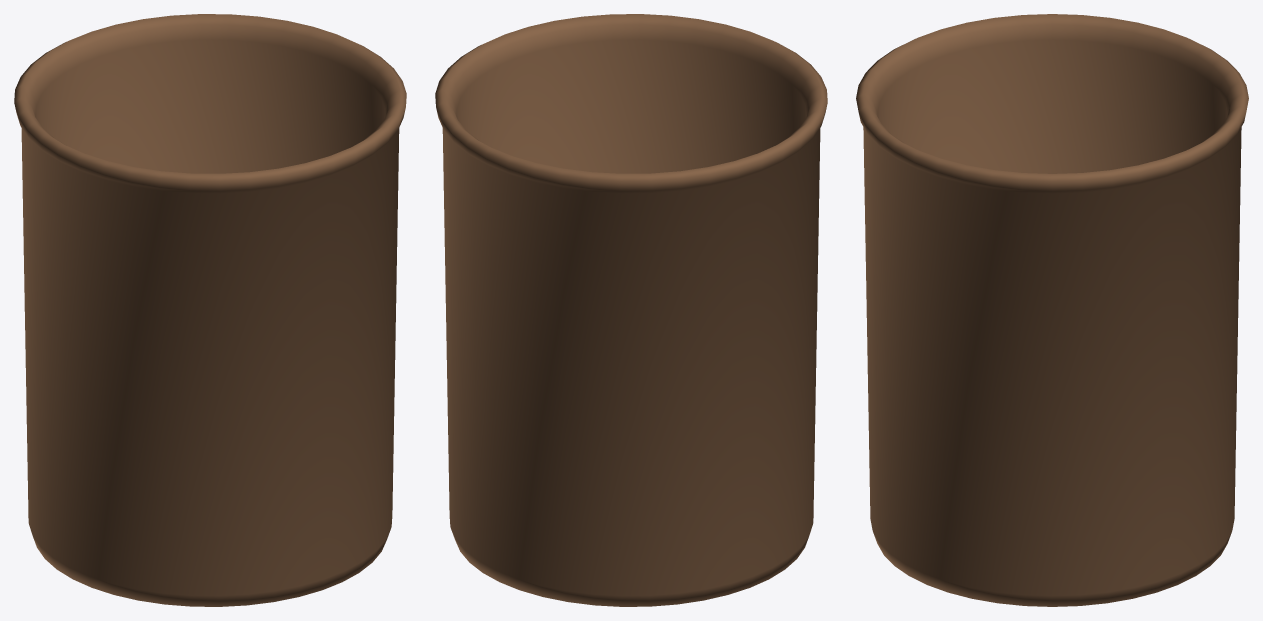
The model's file is proc_dice_cup_83x102mm.glb.
3 views of the same model, side by side, from view 1: azimuth 30°, elevation 25°; view 2: azimuth 150°, elevation 25°; view 3: azimuth 270°, elevation 25° (orthographic).
Parts seen in each view (by area): view 1: dice_cup; view 2: dice_cup; view 3: dice_cup.
Part boxes in pixels (x1,y1,x2,y2): dice_cup: (14,14,406,606); dice_cup: (435,14,827,606); dice_cup: (856,14,1248,606).
Size of the model in its own units: 0.0826 by 0.1016 by 0.0826.
